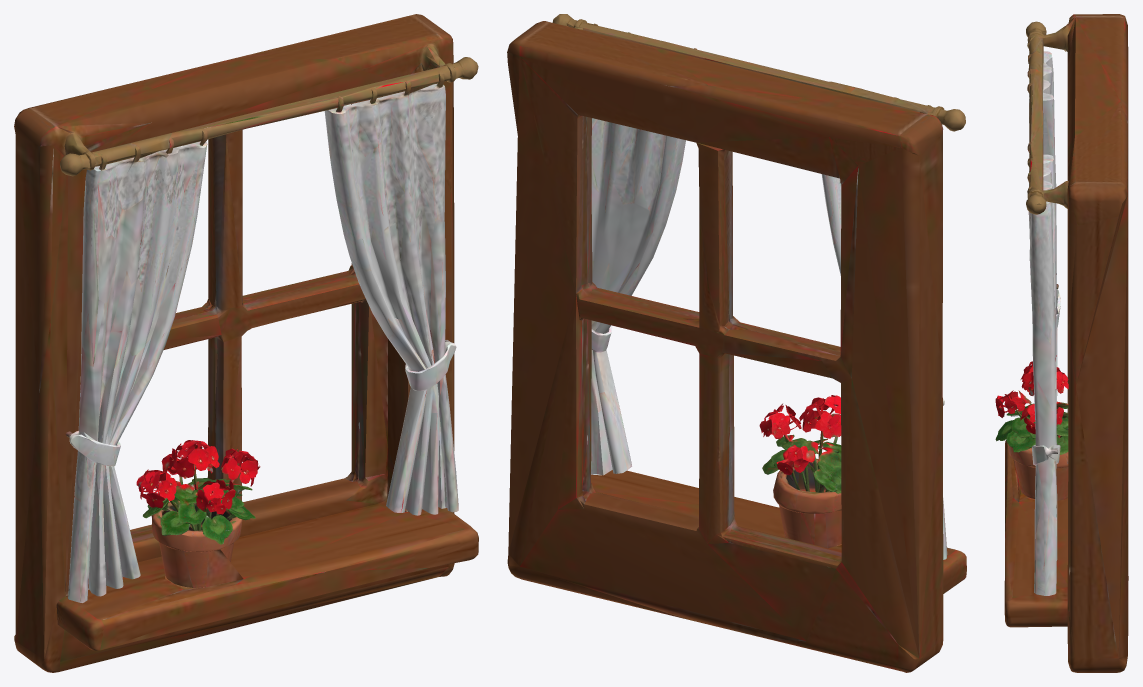
Rendered from window.glb.
The picture shows the model from 3 angles, left to right: view 1: azimuth 30°, elevation 25°; view 2: azimuth 150°, elevation 25°; view 3: azimuth 270°, elevation 25°; orthographic projection. The views are drawn at different scales.
Bounding box in the file's own units: 1.52 × 1.9 × 0.4697.
Materials: 1 (1 with a texture image).
